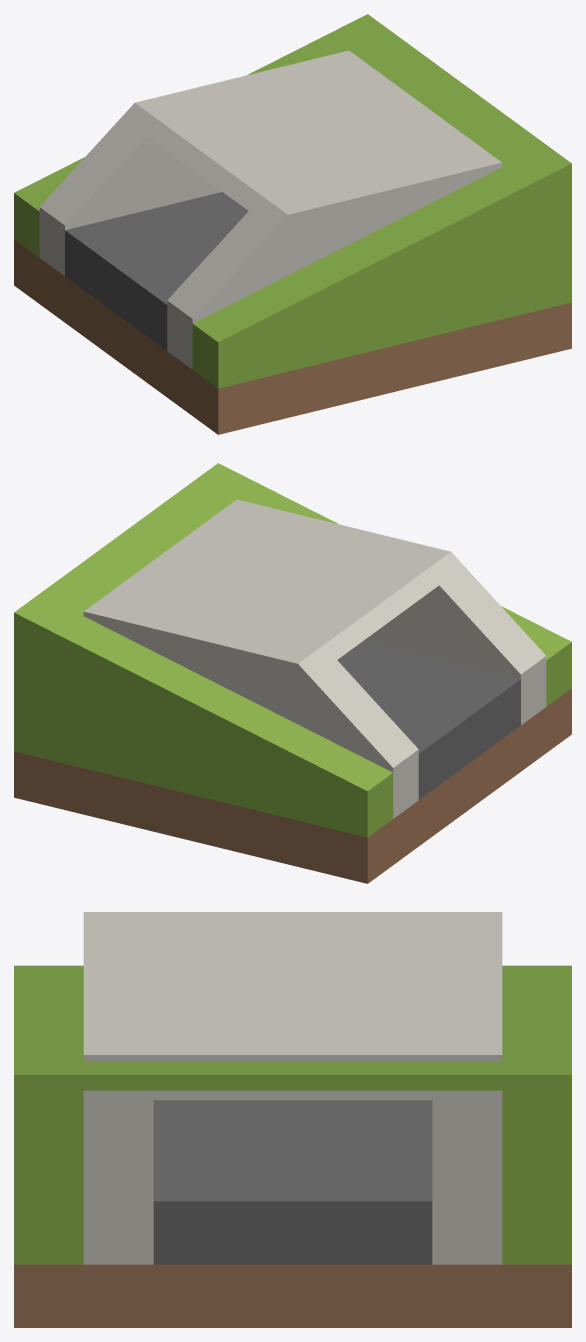
The model's file is road-tunnel-entry.obj.
The picture shows the model from 3 angles, top to bottom: view 1: azimuth 30°, elevation 25°; view 2: azimuth 150°, elevation 25°; view 3: azimuth 270°, elevation 25°; orthographic projection. The views are drawn at different scales.
Visible parts, largest first — view 1: road-tunnel-entry_Cube.553; view 2: road-tunnel-entry_Cube.553; view 3: road-tunnel-entry_Cube.553.
Part boxes in pixels (x1=…): road-tunnel-entry_Cube.553: x1=14, y1=14, x2=571, y2=434; road-tunnel-entry_Cube.553: x1=14, y1=463, x2=571, y2=883; road-tunnel-entry_Cube.553: x1=14, y1=912, x2=571, y2=1327.
Bounding box in the file's own units: 8 × 4 × 8.
1 material, 1 textured.
